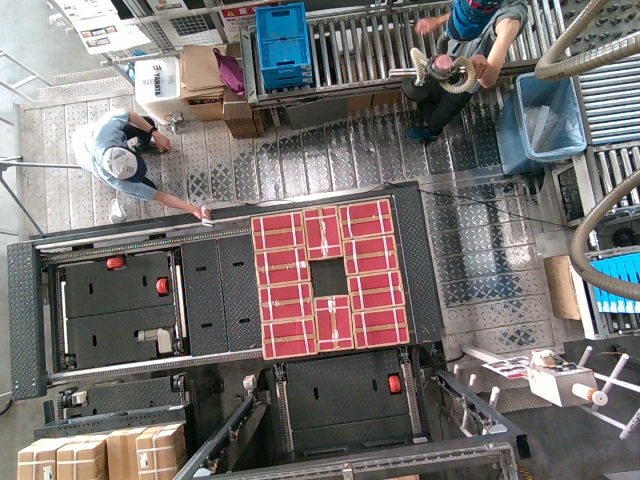box: (315, 294, 352, 350), (248, 213, 304, 248), (255, 249, 311, 284), (256, 285, 312, 320), (262, 318, 318, 353), (338, 200, 394, 235), (341, 237, 397, 272), (346, 275, 402, 310), (353, 310, 409, 345), (303, 206, 340, 255)
